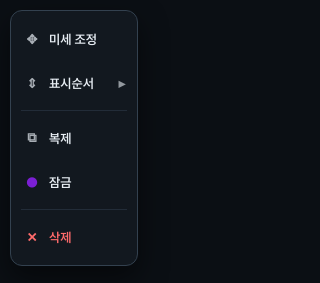
Test case: [표시순서] 하위 화면 › [돌아가기]는 첫 화면으로 되돌리고 포커스를 [표시순서] 로 돌려준다
The width and height of the screenshot is (320, 283).
Step 1. Click the menu item "⇕ 표시순서 ▸" → (74, 83), box [11,61,137,105]
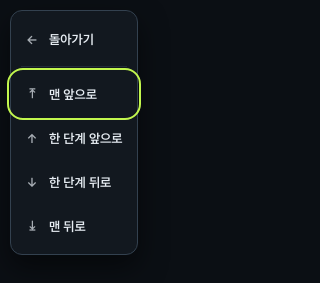
Expected: the menu item "삭제" is gone
Step 2. Click the menu item "← 돌아가기" → (74, 39), box [11,17,137,61]
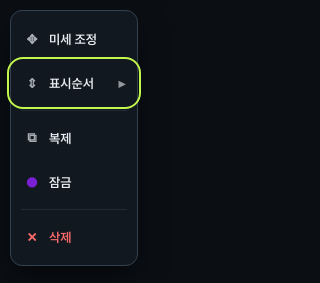
Expected: the menu item "✕ 삭제" is shown, [11,215,137,259]
